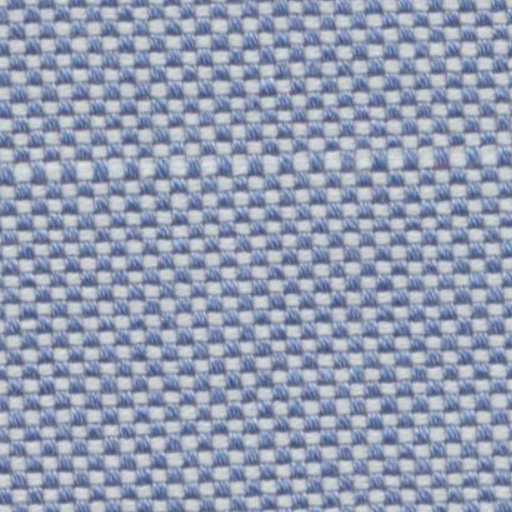TuoSha: (17, 119, 480, 206)
